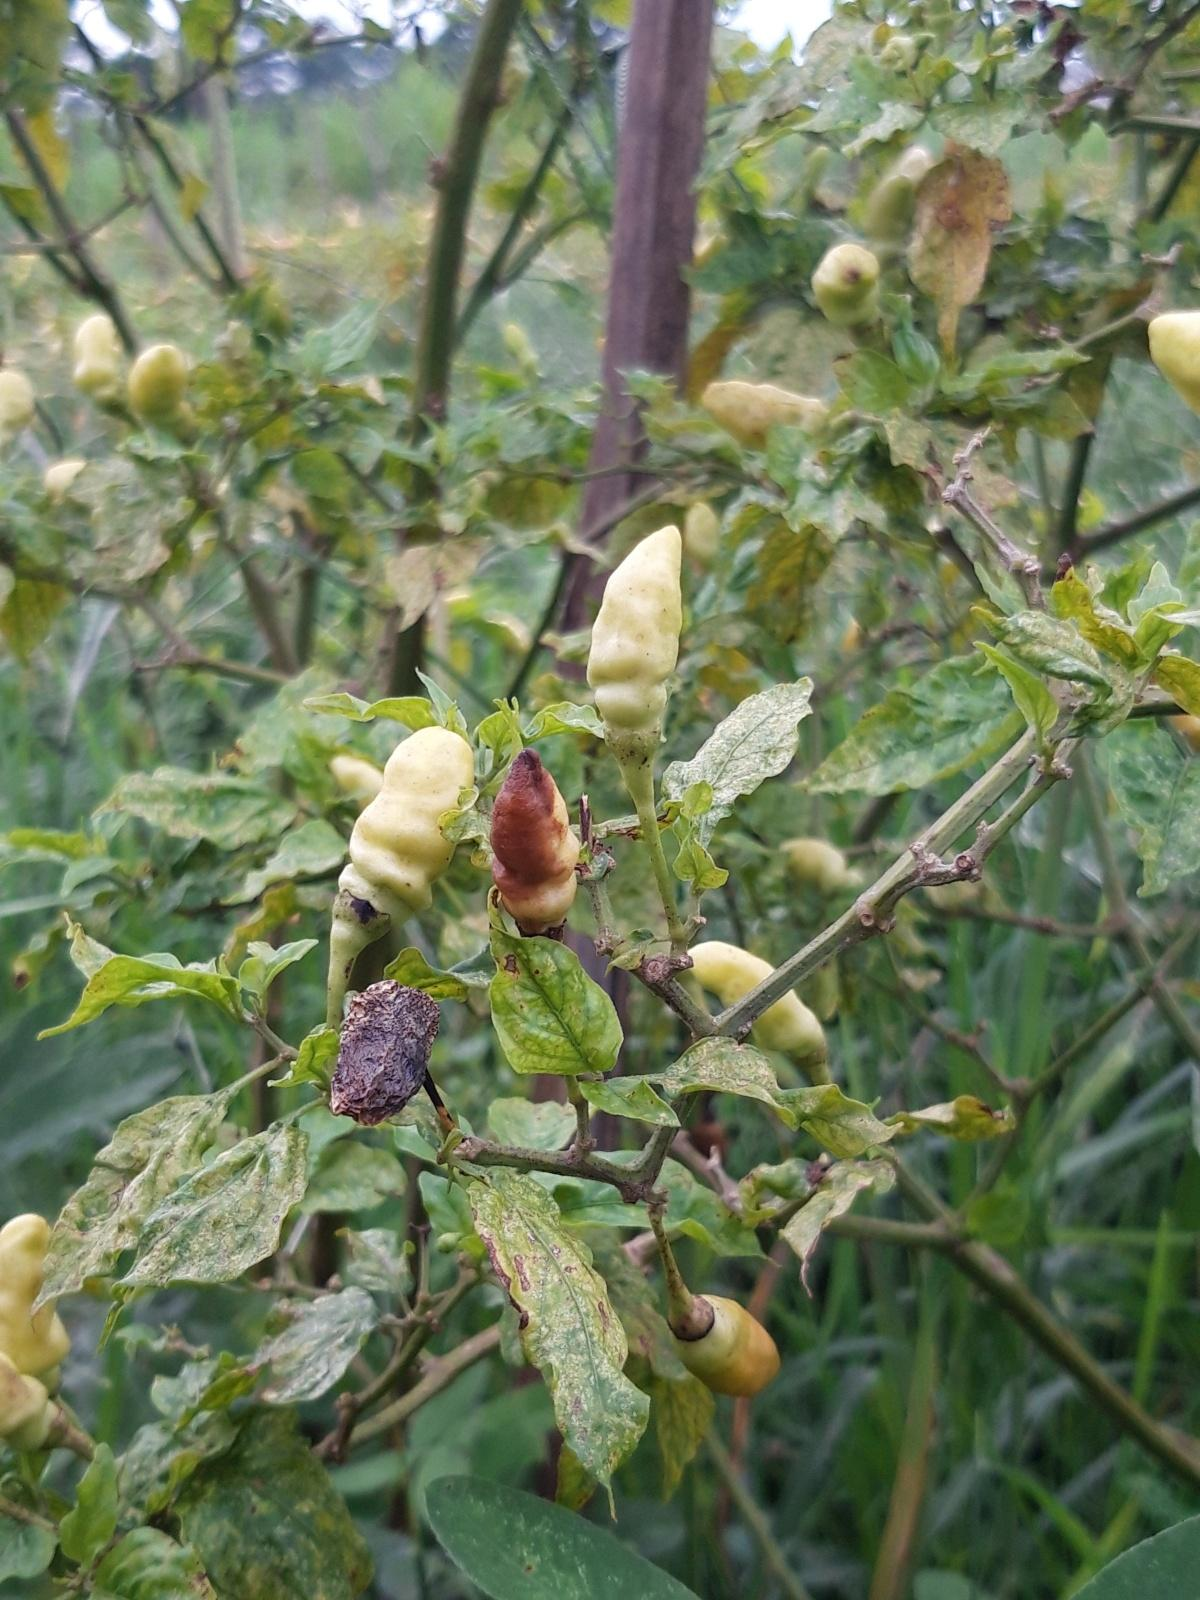antraknosa: (327, 978, 440, 1125)
cabai_normal: (329, 726, 477, 951), (586, 523, 683, 730), (691, 942, 824, 1058), (1, 1211, 71, 1395), (674, 1294, 782, 1400)
lalat_buah: (492, 749, 586, 935)
